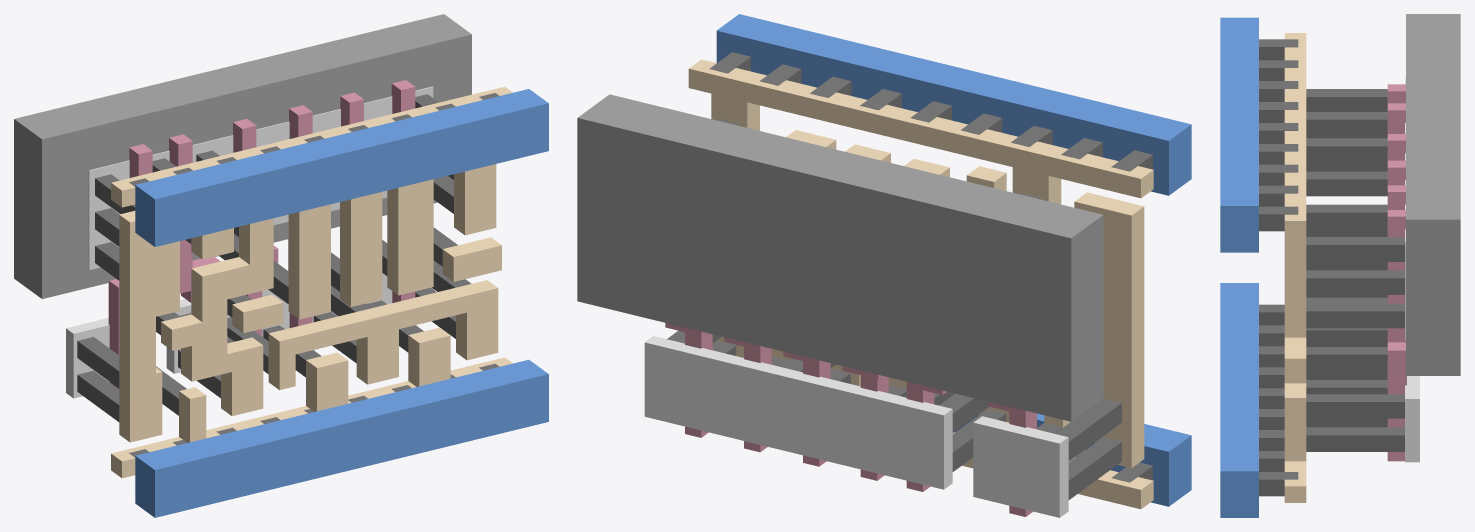
The model's file is sky130_fd_sc_hd__o41a_1.gds.gltf.
The picture shows the model from 3 angles, left to right: view 1: azimuth 30°, elevation 25°; view 2: azimuth 150°, elevation 25°; view 3: azimuth 270°, elevation 25°; orthographic projection. The views are drawn at different scales.
Parts seen in each view (by area): view 1: sky130_fd_sc_hd__o41a_1_li1, sky130_fd_sc_hd__o41a_1_met1, sky130_fd_sc_hd__o41a_1_nwell, sky130_fd_sc_hd__o41a_1_licon, sky130_fd_sc_hd__o41a_1_diff, sky130_fd_sc_hd__o41a_1_poly, sky130_fd_sc_hd__o41a_1_mcon; view 2: sky130_fd_sc_hd__o41a_1_nwell, sky130_fd_sc_hd__o41a_1_diff, sky130_fd_sc_hd__o41a_1_li1, sky130_fd_sc_hd__o41a_1_met1, sky130_fd_sc_hd__o41a_1_licon, sky130_fd_sc_hd__o41a_1_mcon, sky130_fd_sc_hd__o41a_1_poly; view 3: sky130_fd_sc_hd__o41a_1_licon, sky130_fd_sc_hd__o41a_1_nwell, sky130_fd_sc_hd__o41a_1_met1, sky130_fd_sc_hd__o41a_1_mcon, sky130_fd_sc_hd__o41a_1_li1, sky130_fd_sc_hd__o41a_1_poly, sky130_fd_sc_hd__o41a_1_diff.
Boxes of the visible parts, box(x1,y1,x2,y2) form: sky130_fd_sc_hd__o41a_1_li1: box(111, 86, 512, 478); sky130_fd_sc_hd__o41a_1_met1: box(135, 89, 548, 517); sky130_fd_sc_hd__o41a_1_nwell: box(14, 14, 471, 298); sky130_fd_sc_hd__o41a_1_licon: box(77, 94, 471, 421); sky130_fd_sc_hd__o41a_1_diff: box(66, 86, 434, 398); sky130_fd_sc_hd__o41a_1_poly: box(108, 80, 415, 388); sky130_fd_sc_hd__o41a_1_mcon: box(129, 93, 499, 457); sky130_fd_sc_hd__o41a_1_nwell: box(577, 94, 1103, 421); sky130_fd_sc_hd__o41a_1_diff: box(644, 336, 1068, 517); sky130_fd_sc_hd__o41a_1_li1: box(688, 59, 1153, 509); sky130_fd_sc_hd__o41a_1_met1: box(716, 14, 1191, 506); sky130_fd_sc_hd__o41a_1_licon: box(667, 119, 1121, 499); sky130_fd_sc_hd__o41a_1_mcon: box(709, 52, 1152, 482); sky130_fd_sc_hd__o41a_1_poly: box(665, 323, 1036, 516); sky130_fd_sc_hd__o41a_1_licon: box(1306, 89, 1404, 451); sky130_fd_sc_hd__o41a_1_nwell: box(1406, 14, 1460, 375); sky130_fd_sc_hd__o41a_1_met1: box(1220, 17, 1258, 517); sky130_fd_sc_hd__o41a_1_mcon: box(1259, 39, 1298, 496); sky130_fd_sc_hd__o41a_1_li1: box(1284, 33, 1306, 502); sky130_fd_sc_hd__o41a_1_poly: box(1387, 84, 1406, 461); sky130_fd_sc_hd__o41a_1_diff: box(1405, 77, 1419, 462).
Size of the model in its own units: 4.52 by 3.2 by 2.24.
